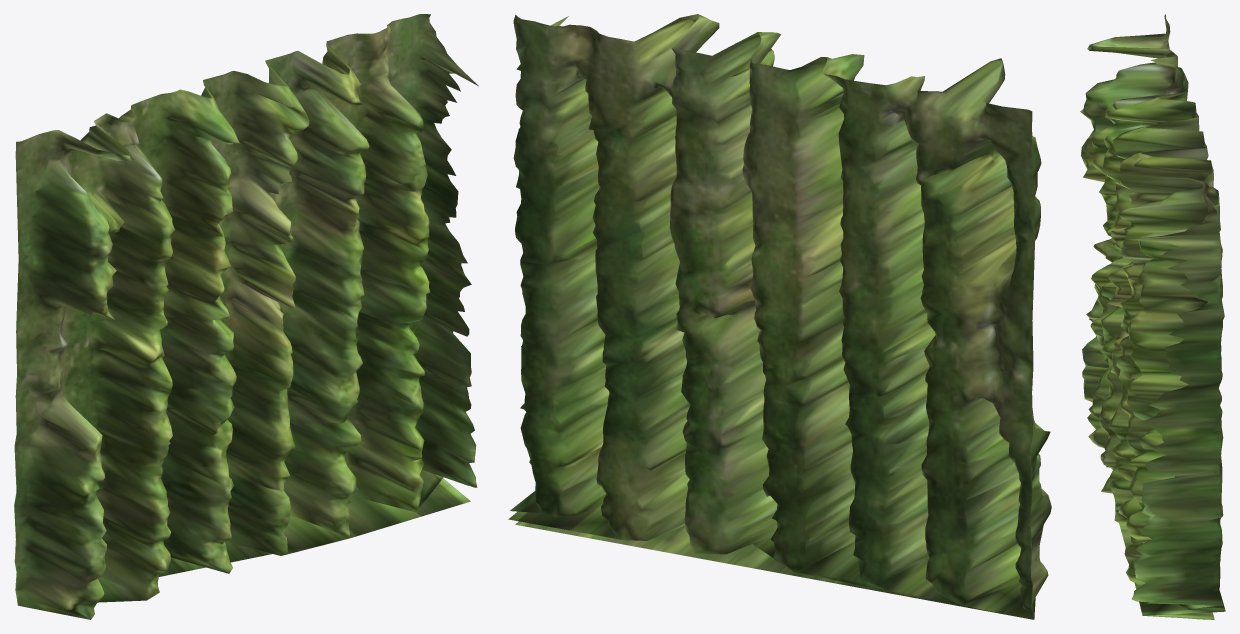
Rendered from map_0_0.obj.
3 views of the same model, side by side, from view 1: azimuth 30°, elevation 25°; view 2: azimuth 150°, elevation 25°; view 3: azimuth 270°, elevation 25° (orthographic). The views are drawn at different scales.
Size of the model in its own units: 10 by 10 by 3.2.
Materials: 1 (1 with a texture image).
